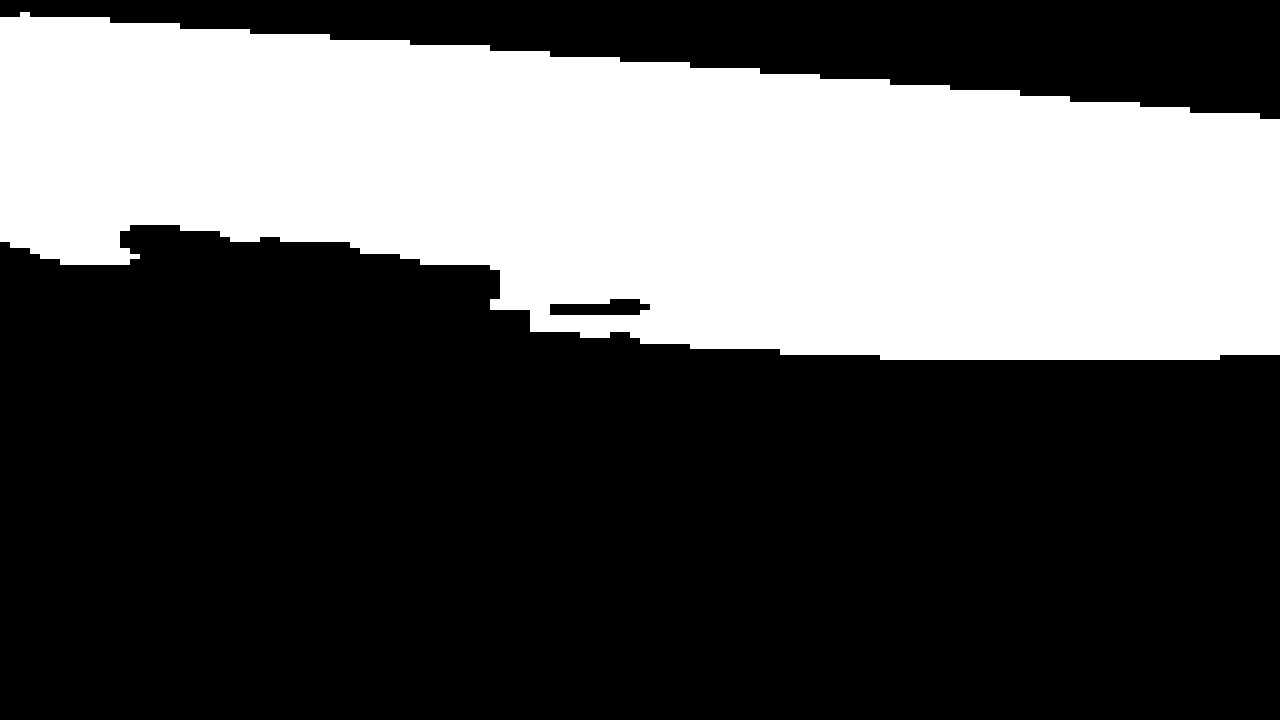Turbine: (11, 7, 1271, 383)
